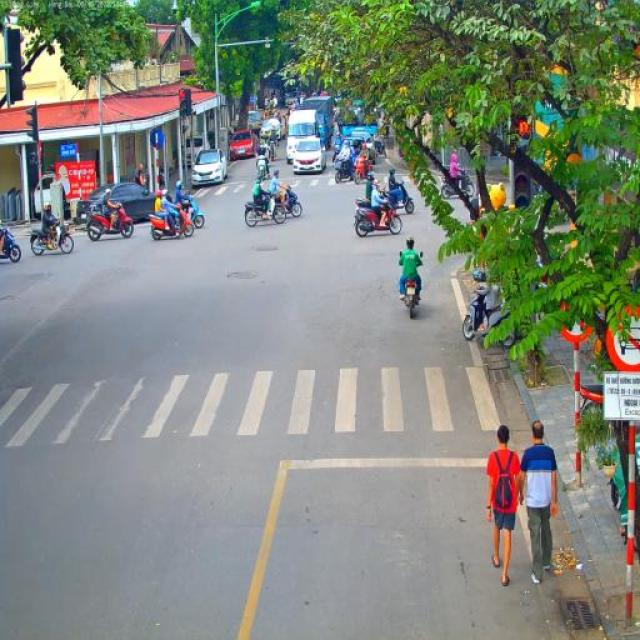car: (81, 182, 160, 223), (191, 148, 228, 187), (292, 134, 328, 174), (338, 132, 374, 166), (229, 130, 256, 160), (259, 119, 282, 148), (244, 110, 262, 132)
motorcycle: (462, 281, 519, 350), (352, 195, 403, 237), (86, 202, 134, 242), (398, 250, 424, 320), (30, 217, 74, 256), (150, 204, 195, 241), (244, 191, 286, 227), (438, 168, 476, 201), (384, 180, 417, 215), (174, 194, 205, 228), (274, 184, 304, 216), (0, 218, 21, 262), (334, 158, 360, 184), (354, 156, 372, 185), (256, 156, 268, 180), (331, 144, 342, 164), (374, 139, 385, 159), (264, 145, 275, 161), (269, 136, 277, 158)
truck: (336, 96, 379, 142), (286, 108, 320, 164), (304, 94, 334, 150)
